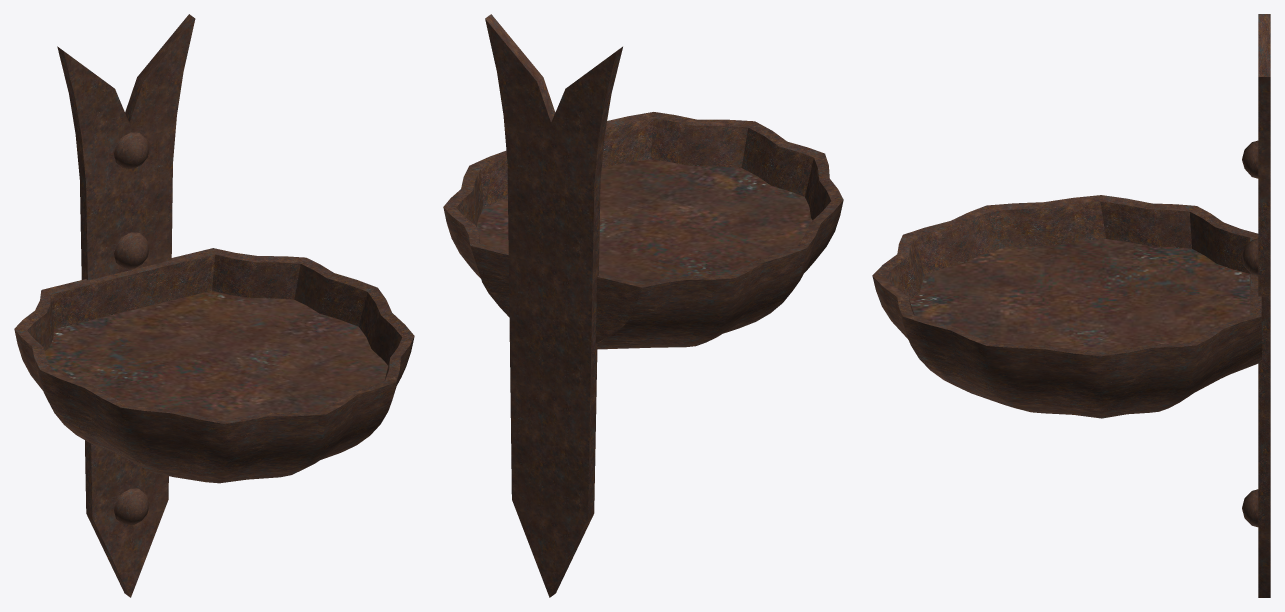
The model's file is Lamp 3.fbx.
3 views of the same model, side by side, from view 1: azimuth 30°, elevation 25°; view 2: azimuth 150°, elevation 25°; view 3: azimuth 270°, elevation 25° (orthographic). The views are drawn at different scales.
Parts seen in each view (by area): view 1: Lamp 3; view 2: Lamp 3; view 3: Lamp 3.
Part boxes in pixels (left/top/right/bottom): Lamp 3: left=14, top=14, right=414, bottom=597; Lamp 3: left=443, top=14, right=843, bottom=597; Lamp 3: left=872, top=14, right=1270, bottom=597.
Bounding box in the file's own units: 19.21 × 30.64 × 20.05.
Materials: 1 (1 with a texture image).
